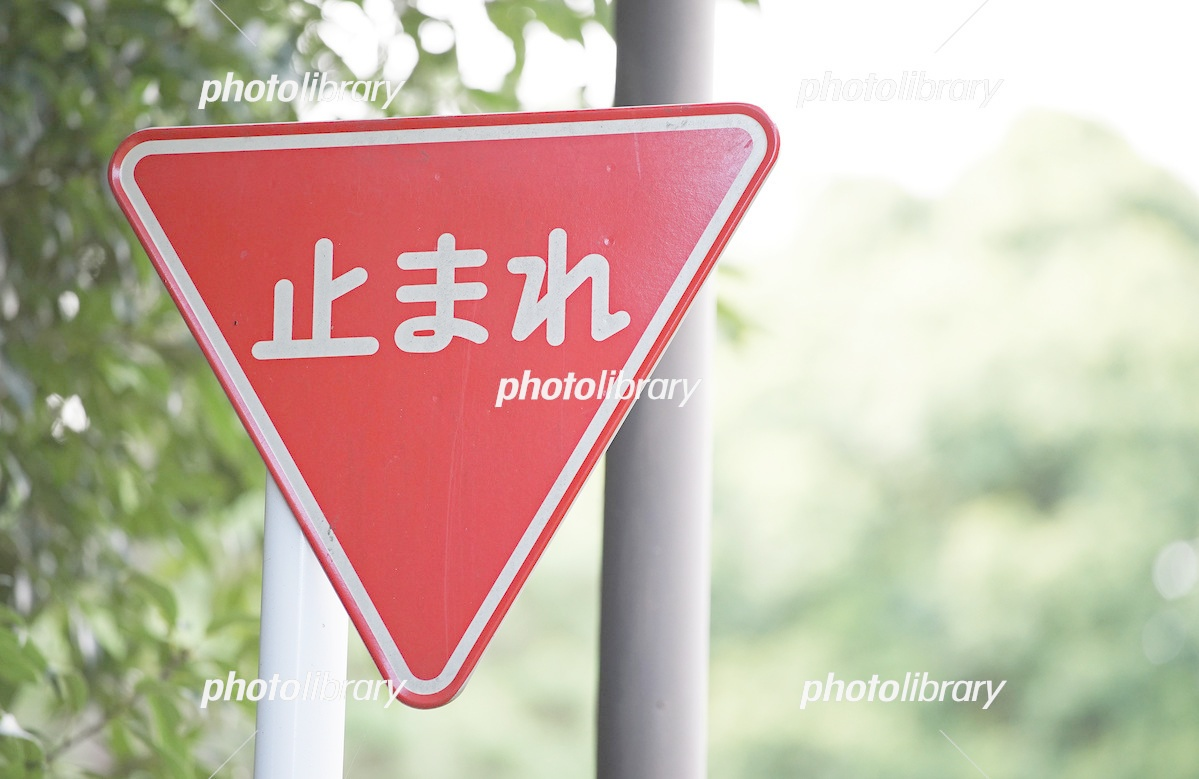Regulatory_sign_triangle: (75, 98, 789, 728)
